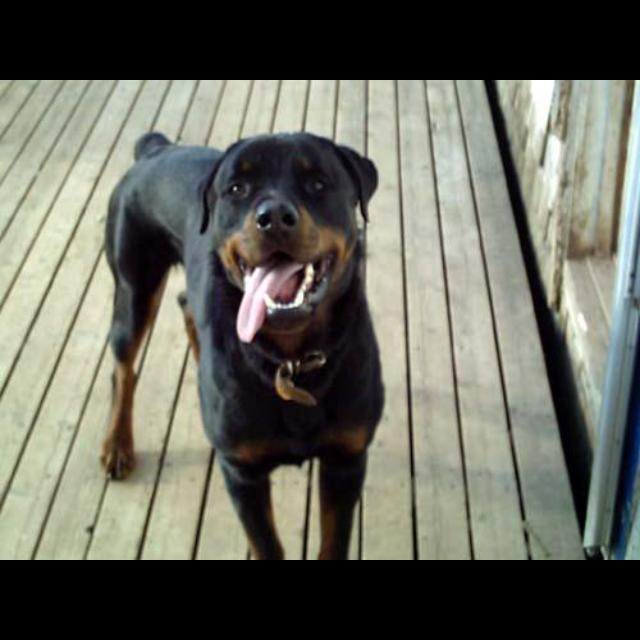rottweiler: (100, 130, 386, 560)
